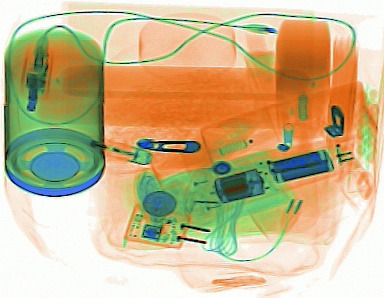lighter: (72, 130, 153, 166)
